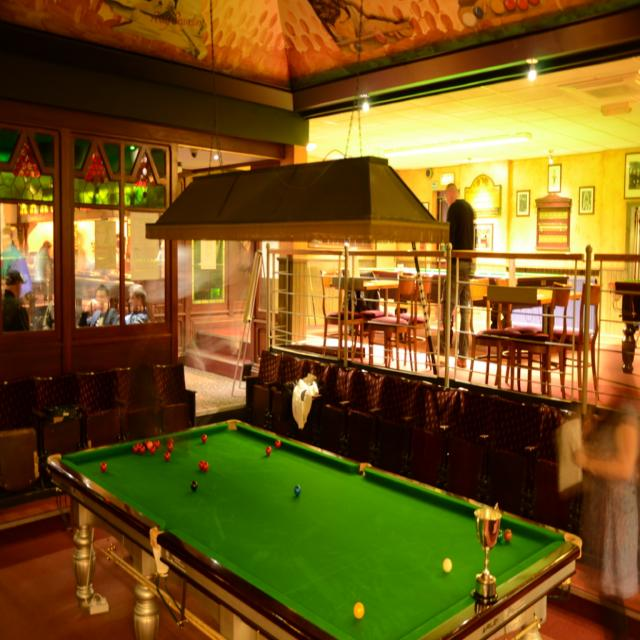Billiard table: (49, 418, 583, 640)
